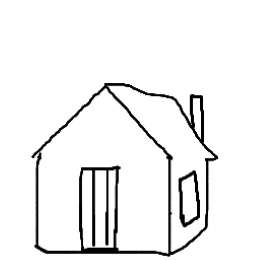bottom_placed_house: (1, 2, 260, 260)
chimney: (186, 84, 215, 157)
door: (69, 151, 123, 257)
open_window: (176, 168, 204, 230)
single_line_roof: (18, 79, 226, 164)
wall: (26, 137, 177, 259)
